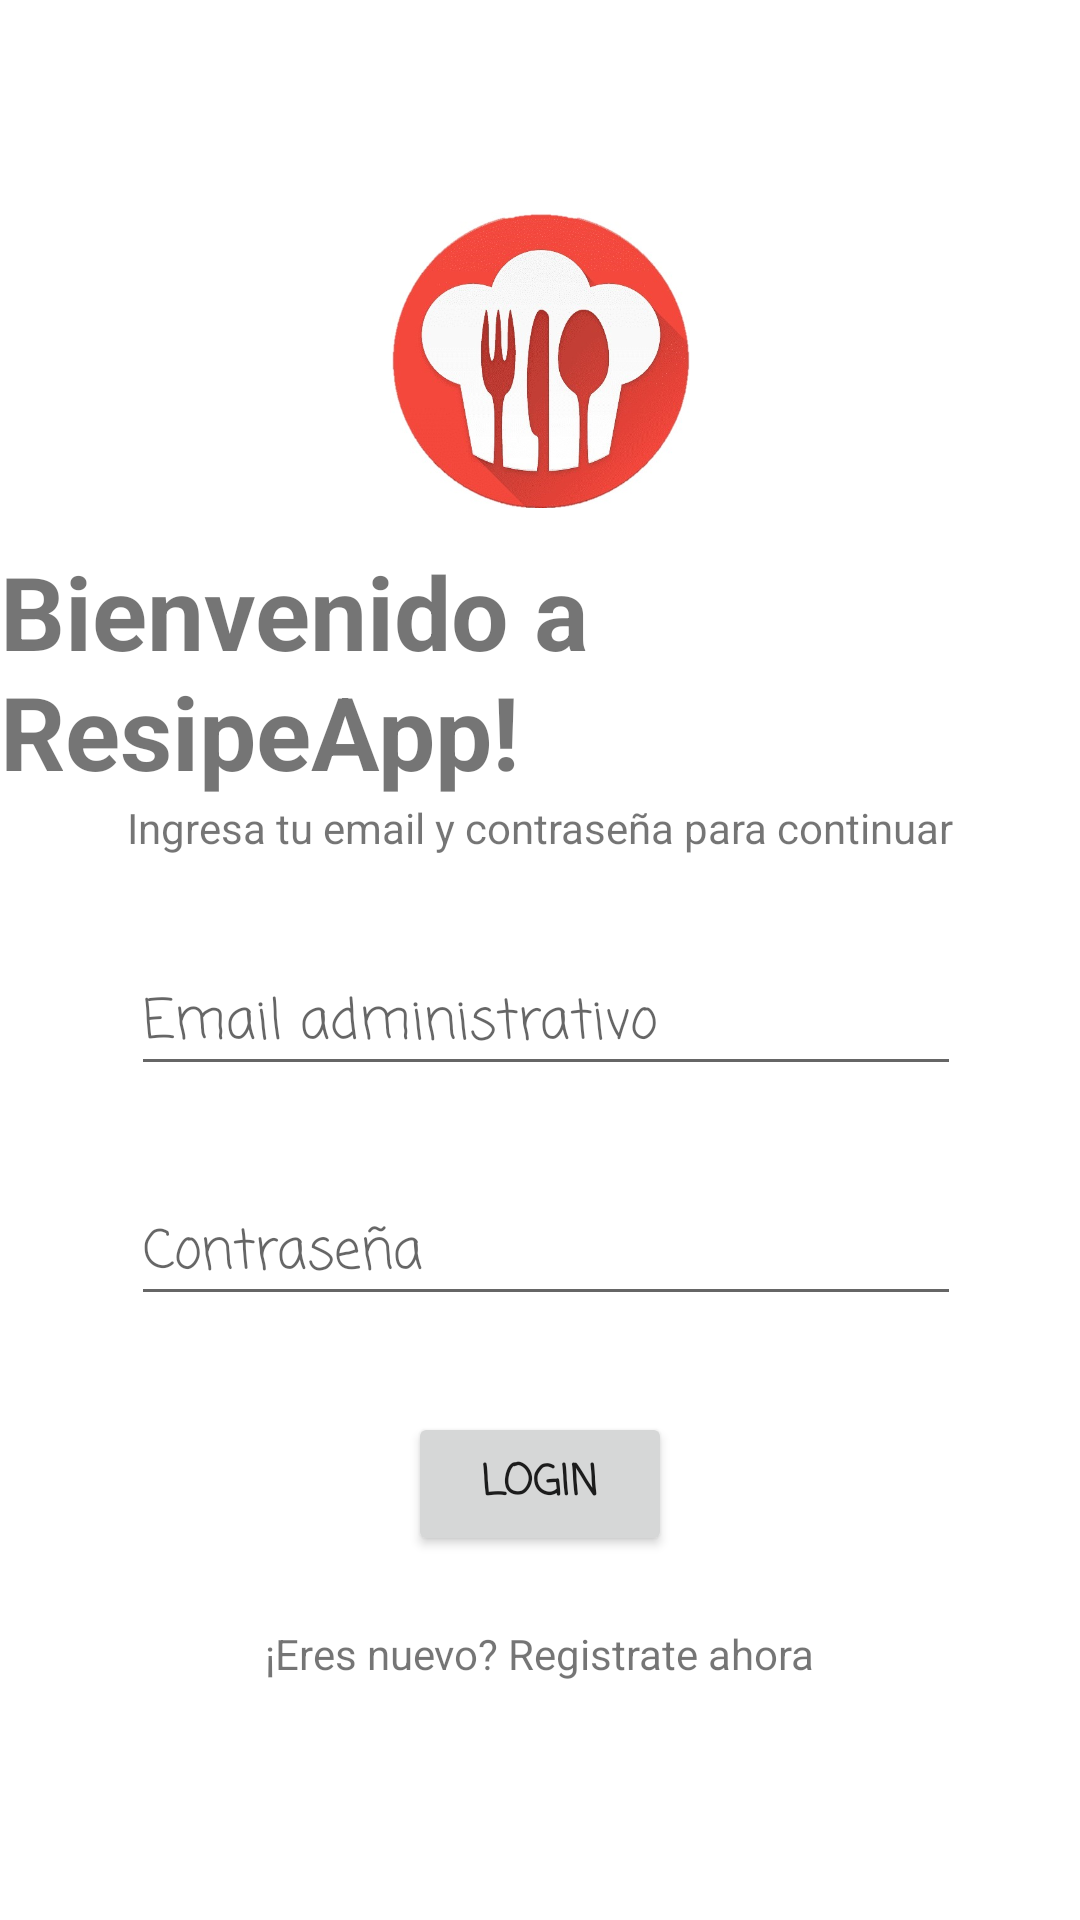

Where icons sit on this 1080px x 1920px app screen, as (x1, y1, x2, y2):
iconoresipeapp: (392, 214, 689, 508)
